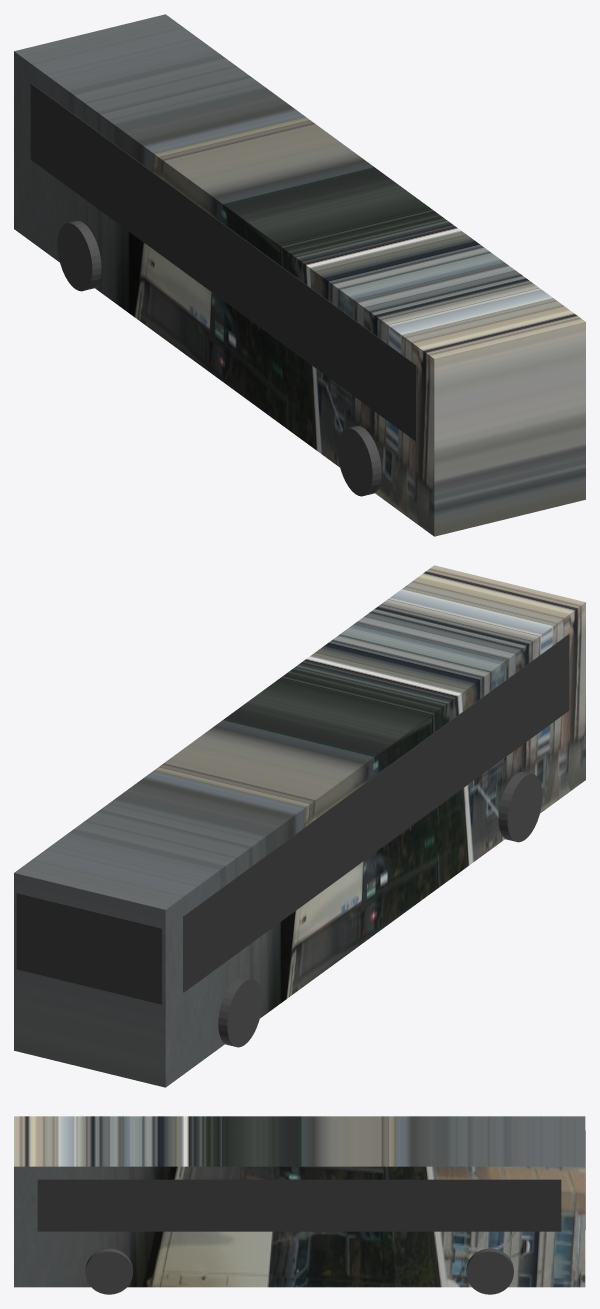
The model's file is bus_335.glb.
The picture shows the model from 3 angles, top to bottom: view 1: azimuth 30°, elevation 25°; view 2: azimuth 150°, elevation 25°; view 3: azimuth 270°, elevation 25°; orthographic projection. The views are drawn at different scales.
Visible parts, largest first — view 1: Bus_335; view 2: Bus_335; view 3: Bus_335.
Part boxes in pixels (x1,y1,x2,y2): Bus_335: (14, 14, 585, 536); Bus_335: (14, 565, 585, 1087); Bus_335: (14, 1116, 585, 1294).
Size of the model in its own units: 2.8 by 2.9 by 12.02.
3 materials, 1 textured.
